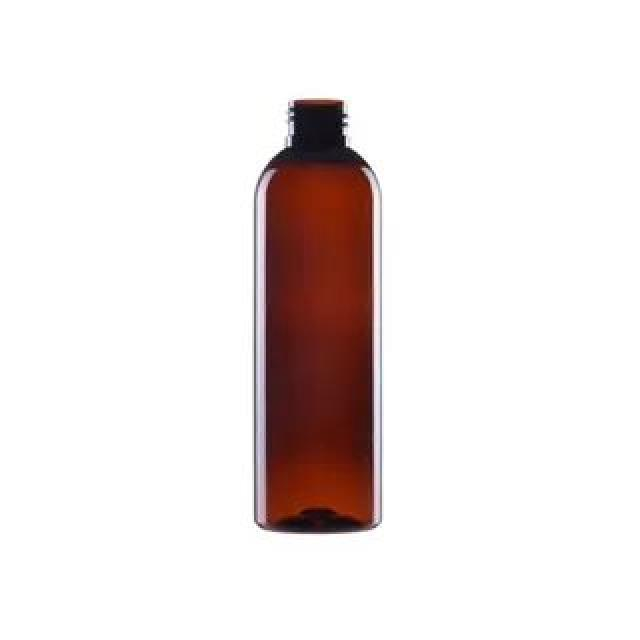brown: (252, 96, 385, 536)
